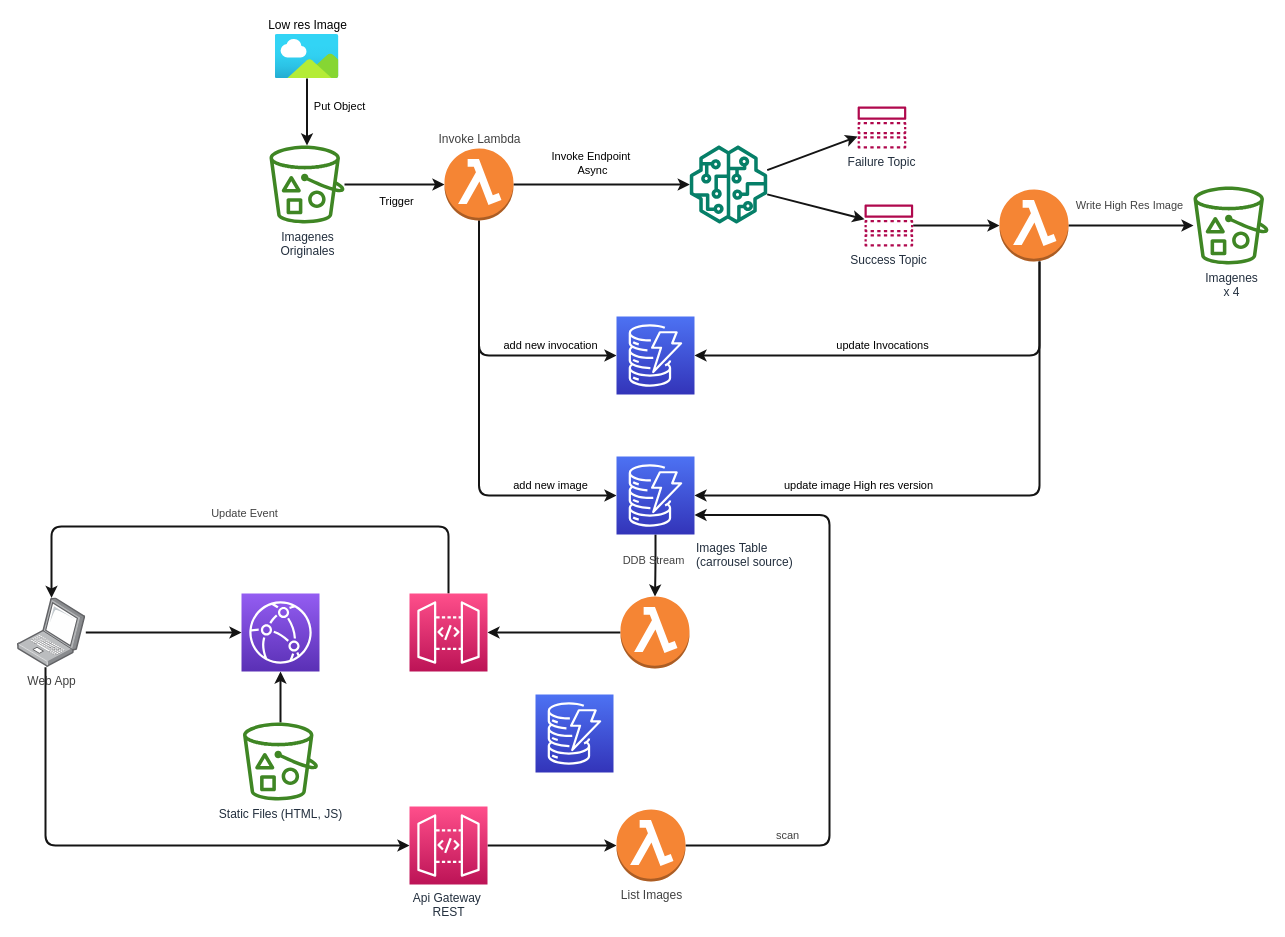
The diagram is 1285 pixels wide and 937 high, and some of its shapes have lost their labels. The shapes that lost their labels are listed below. From the top down, each one's centre as x and y in pixels, then its label:
At [728,184]: "Sagemaker Endpoint Stable Diffusion x4 Upscaler".
At [1033,225]: "Process Response".
At [655,355]: "Invocations Table".
At [448,632]: "Api Gateway Web Socket".
At [574,733]: "Websockt connections".
